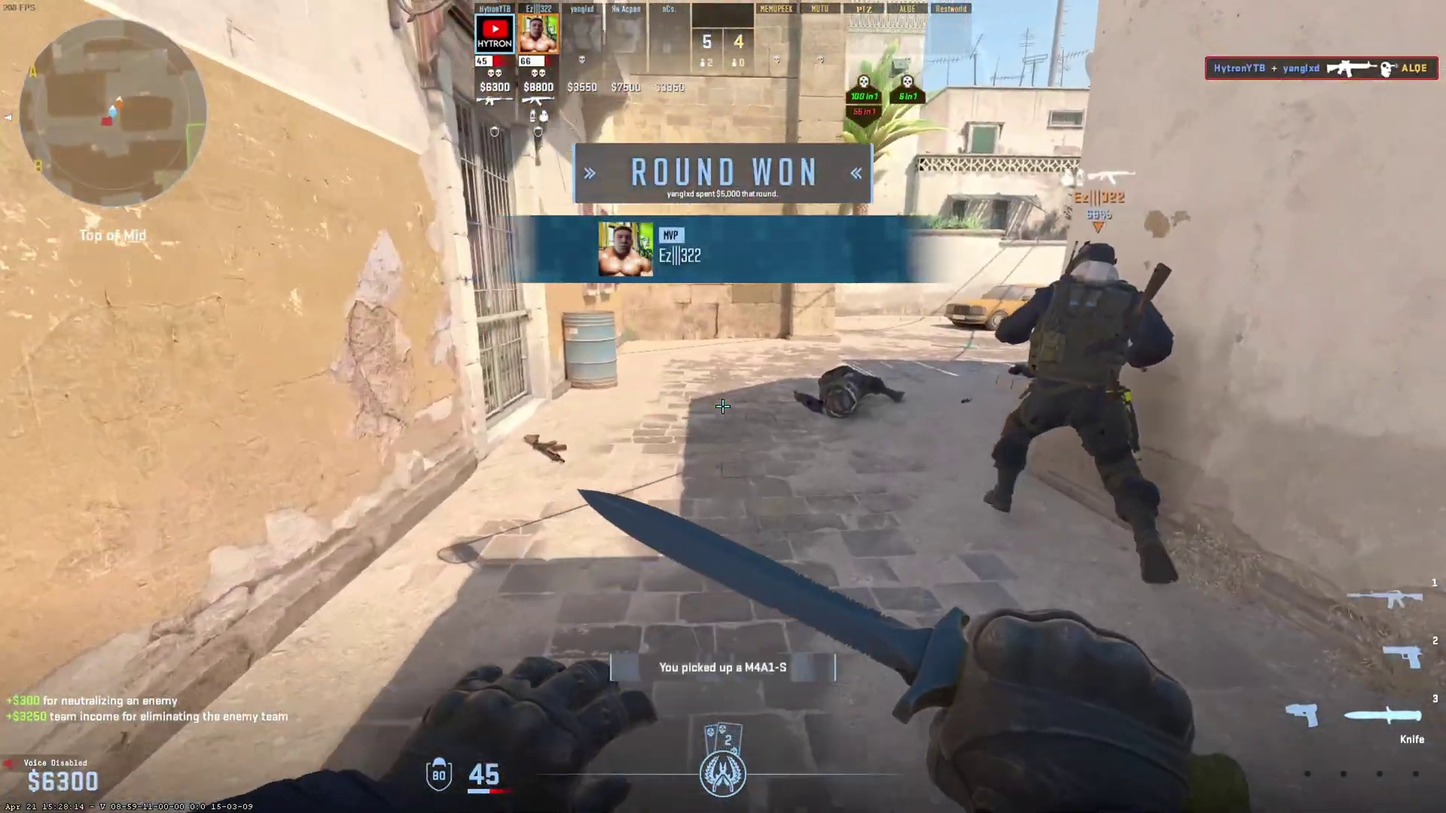CT: (1012, 243, 1171, 579)
